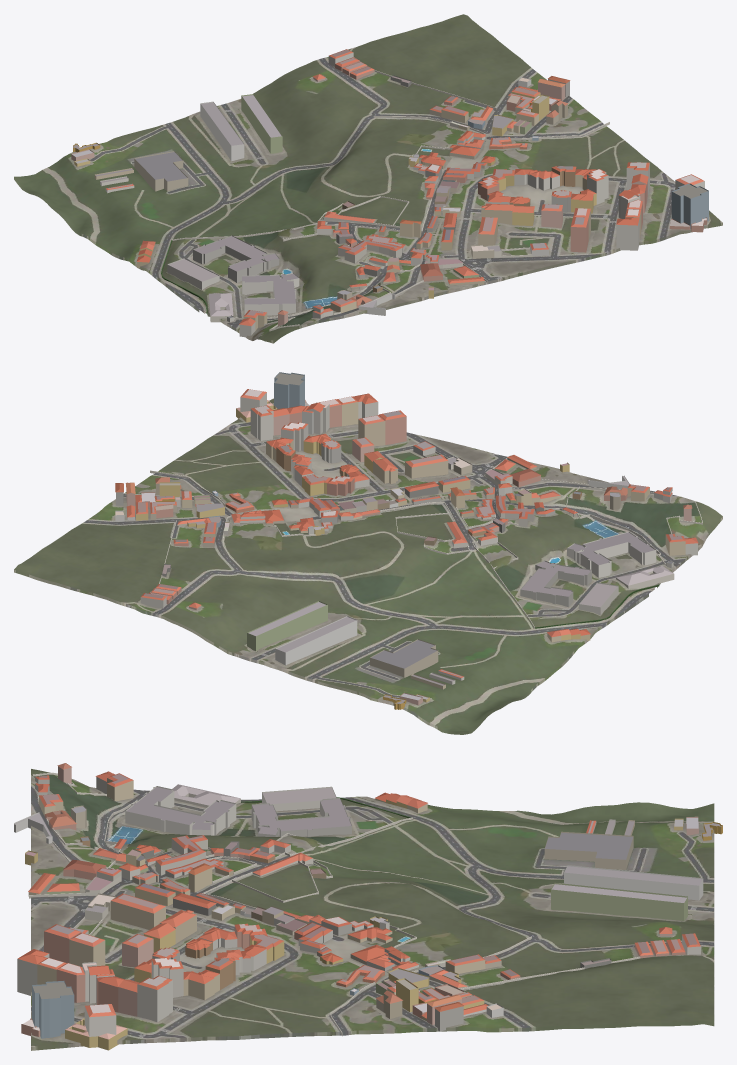
3 views of the same model, one above another, from view 1: azimuth 30°, elevation 25°; view 2: azimuth 150°, elevation 25°; view 3: azimuth 270°, elevation 25° (orthographic). The views are drawn at different scales.
Parts seen in each view (by area): view 1: terrain, buildings; view 2: terrain, buildings; view 3: terrain, buildings.
Part boxes in pixels (<box>): terrain: <box>14,14,722,343</box>; buildings: <box>71,49,708,337</box>; terrain: <box>14,398,722,734</box>; buildings: <box>115,372,702,709</box>; terrain: <box>31,769,714,1050</box>; buildings: <box>14,763,722,1050</box>.
Size of the model in its own units: 517 by 82.54 by 519.
Materials: 2 (1 with a texture image).
